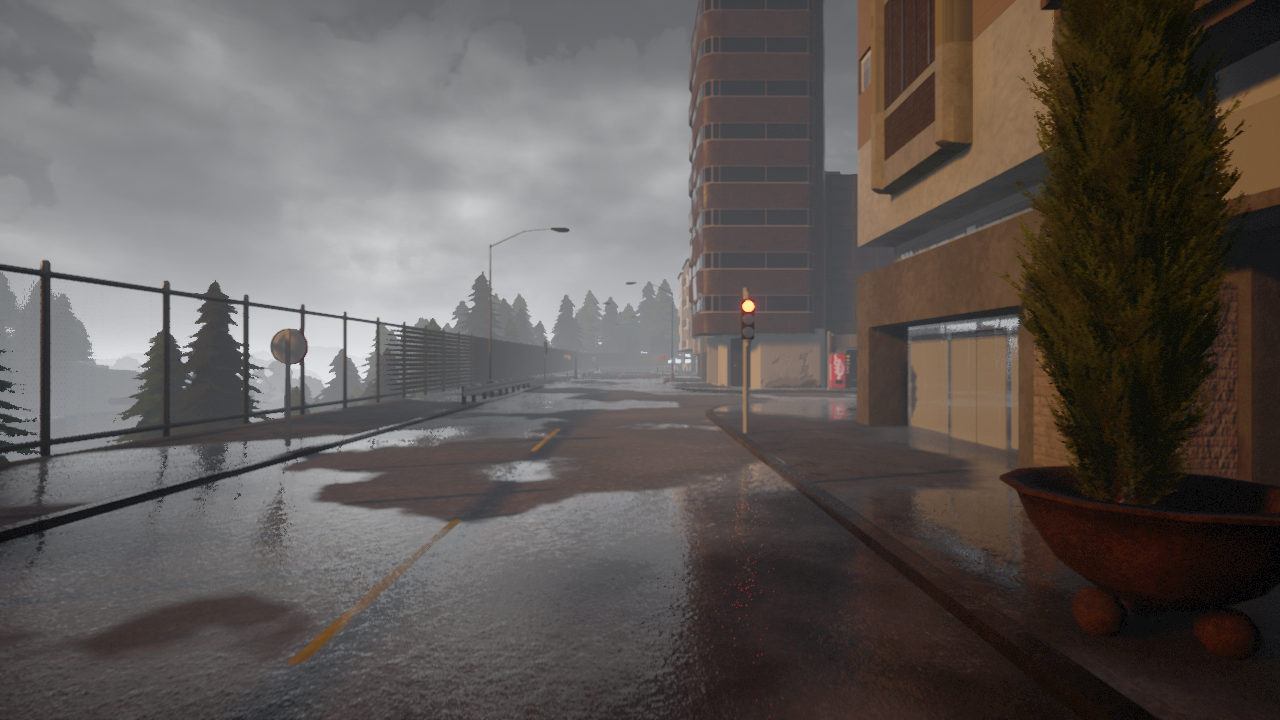red: (740, 299, 757, 342)
